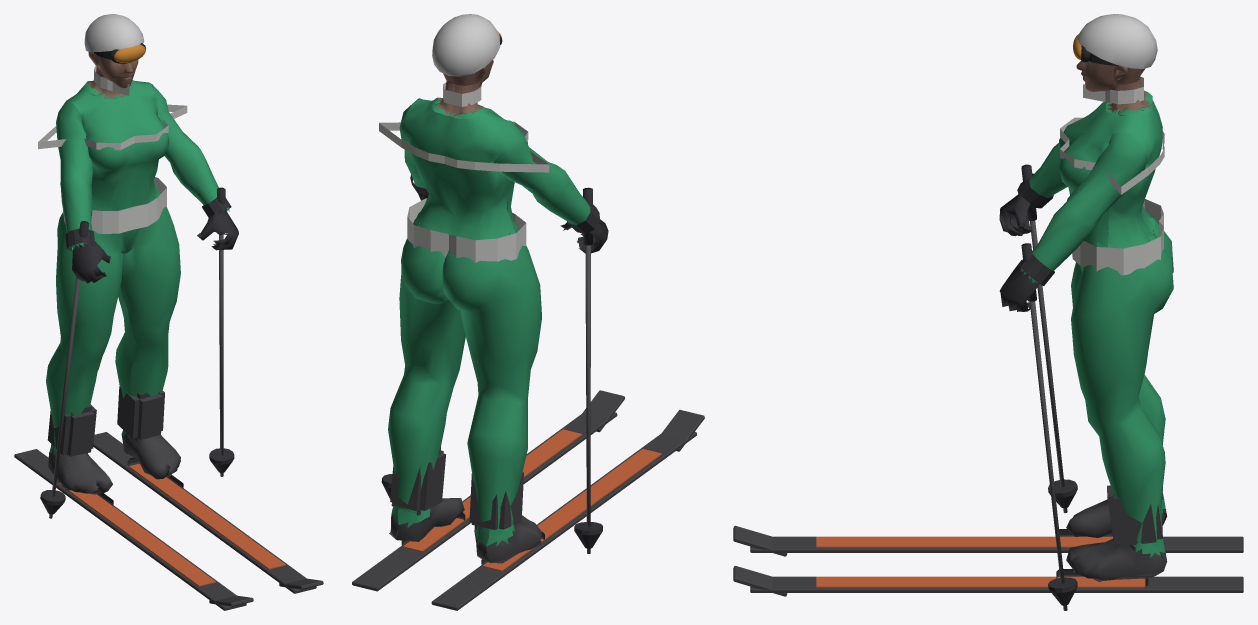
File: guest-2.glb
The picture shows the model from 3 angles, left to right: view 1: azimuth 30°, elevation 25°; view 2: azimuth 150°, elevation 25°; view 3: azimuth 270°, elevation 25°; orthographic projection. The views are drawn at different scales.
Visible parts, largest first — view 1: guest-2; view 2: guest-2; view 3: guest-2.
Boxes of the visible parts, x1=… form: guest-2: x1=14, y1=14, x2=323, y2=610; guest-2: x1=352, y1=14, x2=704, y2=610; guest-2: x1=733, y1=14, x2=1243, y2=610.
Bounding box in the file's own units: 0.7544 × 1.78 × 1.49.
